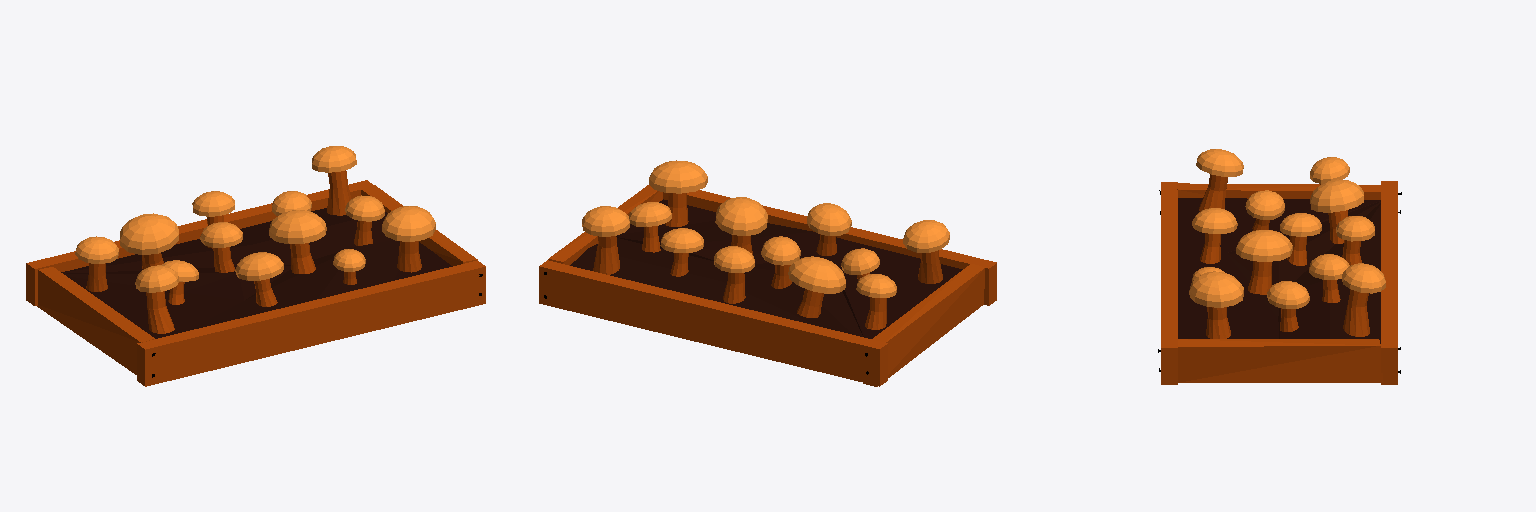
3 renders of one model, left to right at view 1: azimuth 30°, elevation 25°; view 2: azimuth 150°, elevation 25°; view 3: azimuth 270°, elevation 25°, orthographic.
Visible parts, largest first — view 1: group[number redacted], group[number redacted], group[number redacted], group[number redacted], group[number redacted], group[number redacted], group[number redacted], group[number redacted], group[number redacted], group[number redacted], group[number redacted], group[number redacted] (+2 smaller); view 2: group[number redacted], group[number redacted], group[number redacted], group[number redacted], group[number redacted], group[number redacted], group[number redacted], group[number redacted], group[number redacted], group[number redacted], group[number redacted], group[number redacted] (+1 smaller); view 3: group[number redacted], group[number redacted], group[number redacted], group[number redacted], group[number redacted], group[number redacted], group[number redacted], group[number redacted], group[number redacted], group[number redacted], group[number redacted], group[number redacted] (+1 smaller).
Boxes of the visible parts, <box> form: group[number redacted]: <box>26,180,485,386</box>; group[number redacted]: <box>269,210,326,273</box>; group[number redacted]: <box>120,213,178,269</box>; group[number redacted]: <box>382,206,435,272</box>; group[number redacted]: <box>312,146,356,215</box>; group[number redacted]: <box>135,265,178,333</box>; group[number redacted]: <box>235,252,283,306</box>; group[number redacted]: <box>75,236,118,291</box>; group[number redacted]: <box>200,222,242,272</box>; group[number redacted]: <box>345,195,384,245</box>; group[number redacted]: <box>192,191,234,248</box>; group[number redacted]: <box>162,260,198,304</box>; group[number redacted]: <box>539,185,996,386</box>; group[number redacted]: <box>788,256,845,317</box>; group[number redacted]: <box>649,160,707,226</box>; group[number redacted]: <box>582,206,629,274</box>; group[number redacted]: <box>903,220,949,283</box>; group[number redacted]: <box>715,197,767,254</box>; group[number redacted]: <box>807,203,851,255</box>; group[number redacted]: <box>714,246,754,303</box>; group[number redacted]: <box>856,274,896,329</box>; group[number redacted]: <box>761,236,800,288</box>; group[number redacted]: <box>629,202,671,252</box>; group[number redacted]: <box>660,228,703,276</box>; group[number redacted]: <box>1158,181,1401,384</box>; group[number redacted]: <box>1189,271,1243,338</box>; group[number redacted]: <box>1236,230,1292,294</box>; group[number redacted]: <box>1342,263,1385,336</box>; group[number redacted]: <box>1310,179,1363,243</box>; group[number redacted]: <box>1196,149,1243,211</box>; group[number redacted]: <box>1192,208,1237,263</box>; group[number redacted]: <box>1267,281,1309,331</box>; group[number redacted]: <box>1280,213,1321,265</box>; group[number redacted]: <box>1336,216,1374,265</box>; group[number redacted]: <box>1309,254,1349,302</box>; group[number redacted]: <box>1245,190,1284,230</box>.
Size of the model in its own units: 4.98 by 1.34 by 3.08.